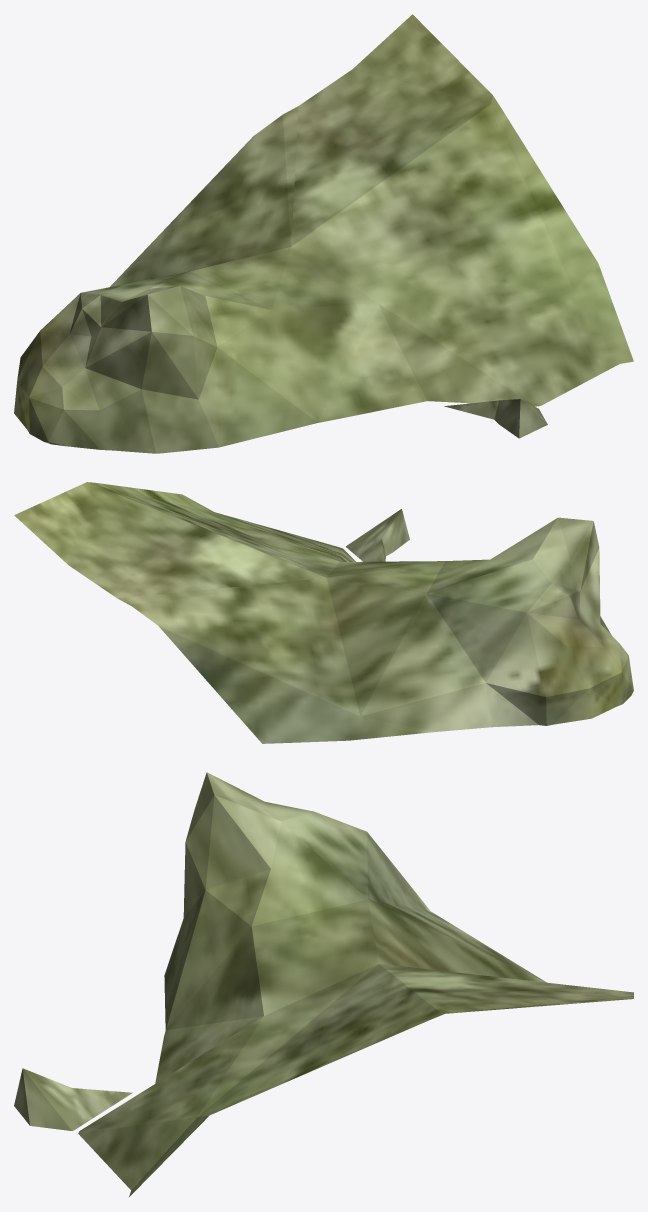
3 views of the same model, one above another, from view 1: azimuth 30°, elevation 25°; view 2: azimuth 150°, elevation 25°; view 3: azimuth 270°, elevation 25° (orthographic). The views are drawn at different scales.
Bounding box in the file's own units: 2.23 × 0.7489 × 1.99.
1 material, 1 textured.
